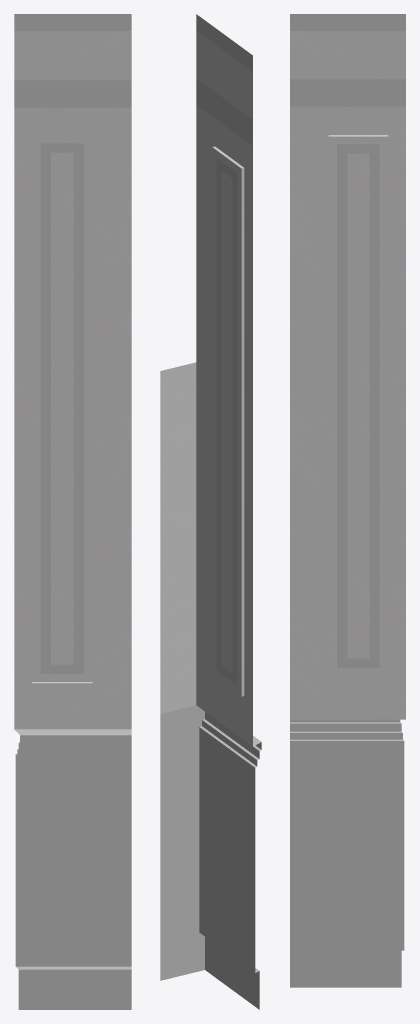
The model's file is SM_Wall_Pattern_12.fbx.
The picture shows the model from 3 angles, left to right: view 1: azimuth 90°, elevation 25°; view 2: azimuth 210°, elevation 25°; view 3: azimuth 270°, elevation 25°; orthographic projection. The views are drawn at different scales.
Parts seen in each view (by area): view 1: SM_Wall_Pattern_12; view 2: SM_Wall_Pattern_12; view 3: SM_Wall_Pattern_12.
Part boxes in pixels (x1,y1,x2,y2): SM_Wall_Pattern_12: (14,14,131,1009); SM_Wall_Pattern_12: (160,14,261,1009); SM_Wall_Pattern_12: (290,14,405,987).
Bounding box in the file's own units: 33 × 67.91 × 633.
